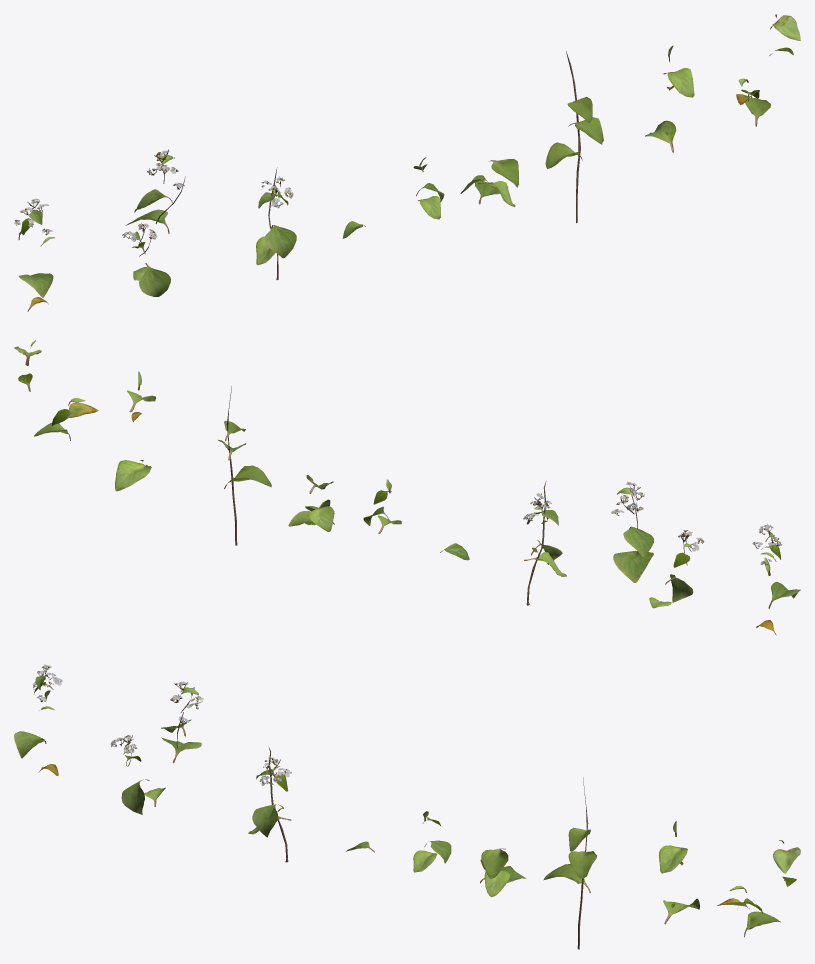
The model's file is shrub_01.glb.
The picture shows the model from 3 angles, top to bottom: view 1: azimuth 30°, elevation 25°; view 2: azimuth 150°, elevation 25°; view 3: azimuth 330°, elevation 25°; orthographic projection.
Parts seen in each view (by area): view 1: shrub_01_a; view 2: shrub_01_a; view 3: shrub_01_a.
Boxes of the visible parts, <box> form: shrub_01_a: <box>14,14,800,311</box>; shrub_01_a: <box>14,340,800,635</box>; shrub_01_a: <box>14,664,800,949</box>.
Size of the model in its own units: 2.55 by 0.5216 by 0.2359.
1 material, 1 textured.
